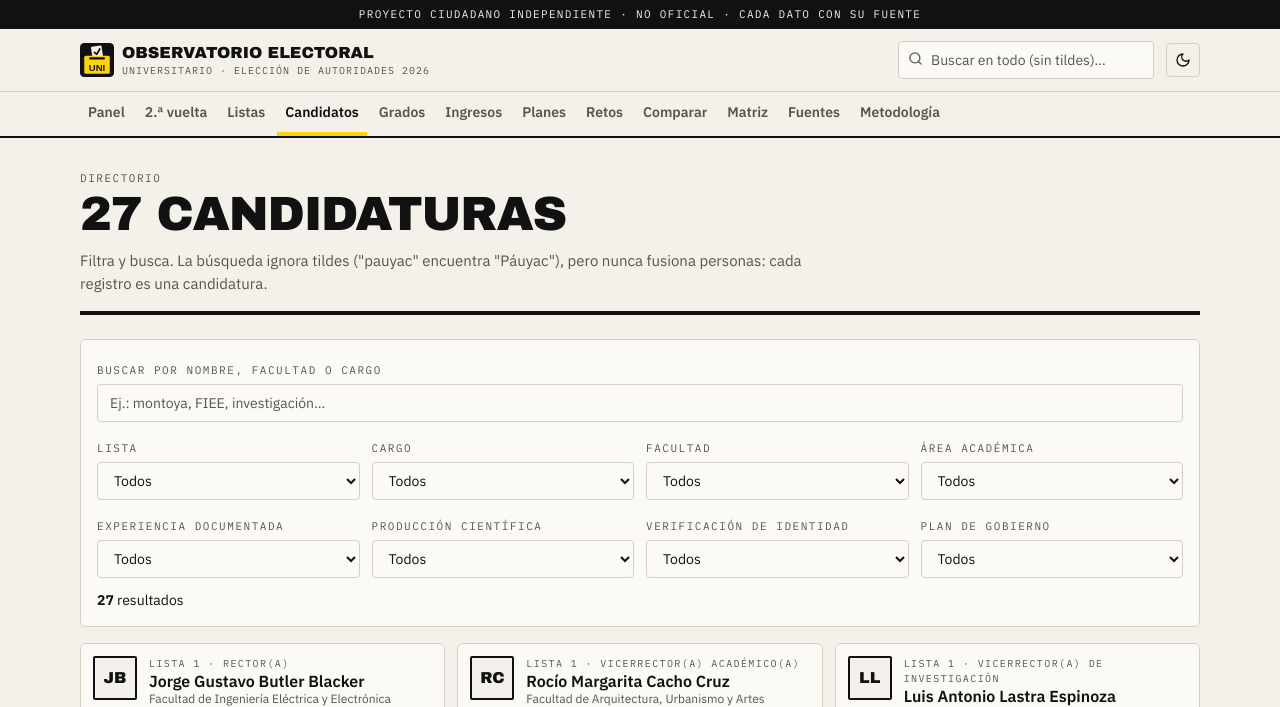
Test: directorio › combina filtros
Select "Rector(a)" in the dropdown labelled "Cargo" at (503, 481), box [372,462,634,500]
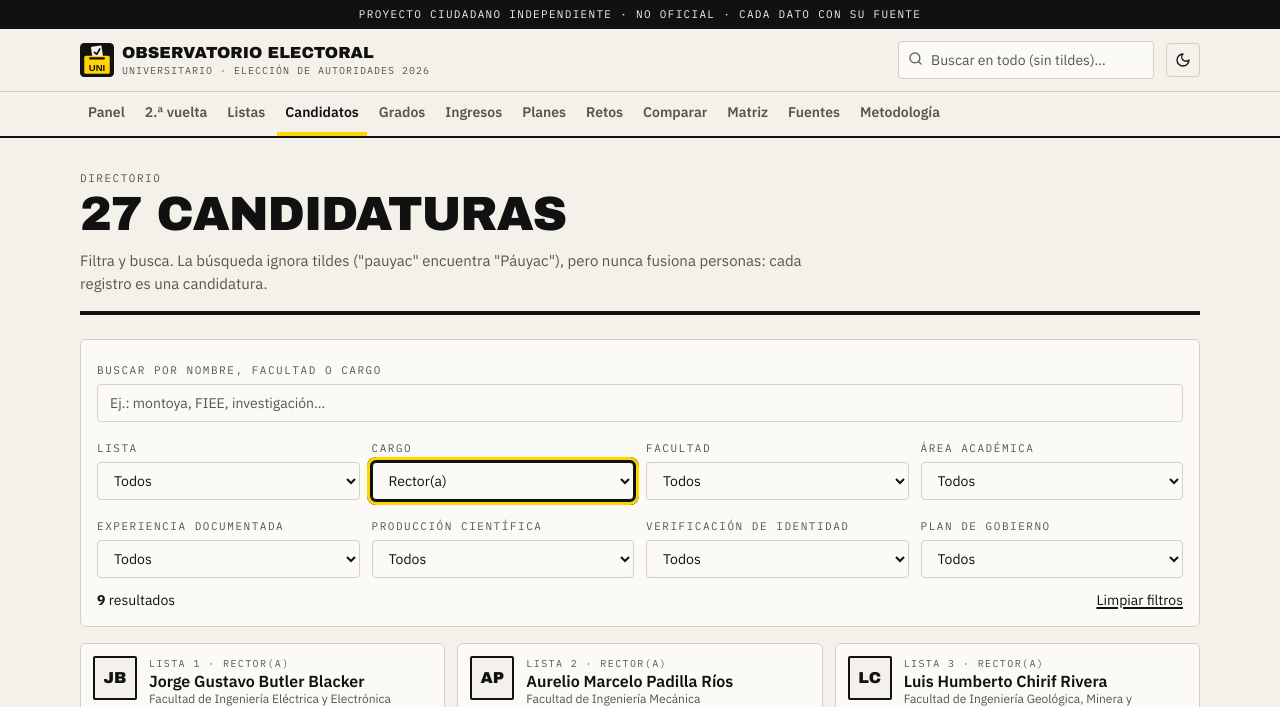
Check: the message shows "9 resultados", box [97,590,1183,610]
Select "FIM" in the dropdown labelled "Facultad" at (777, 481), box [646,462,908,500]
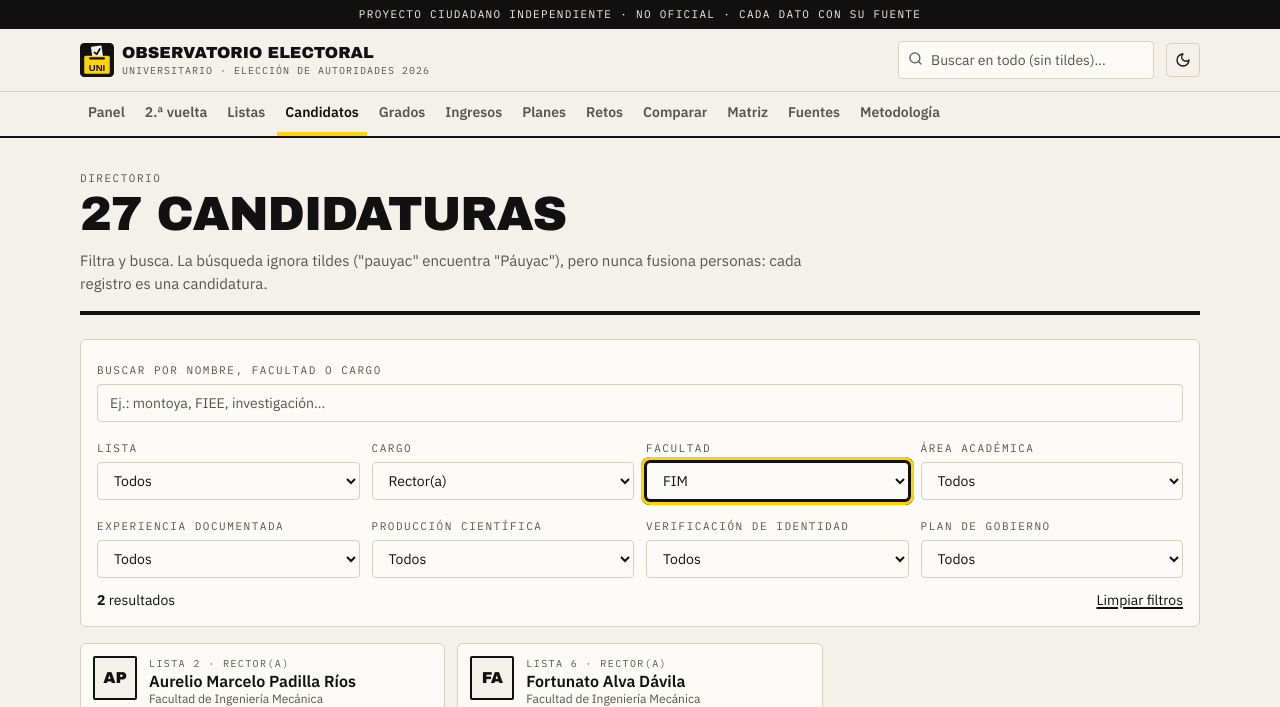
Check: the message shows "2 resultados", box [97,590,1183,610]
